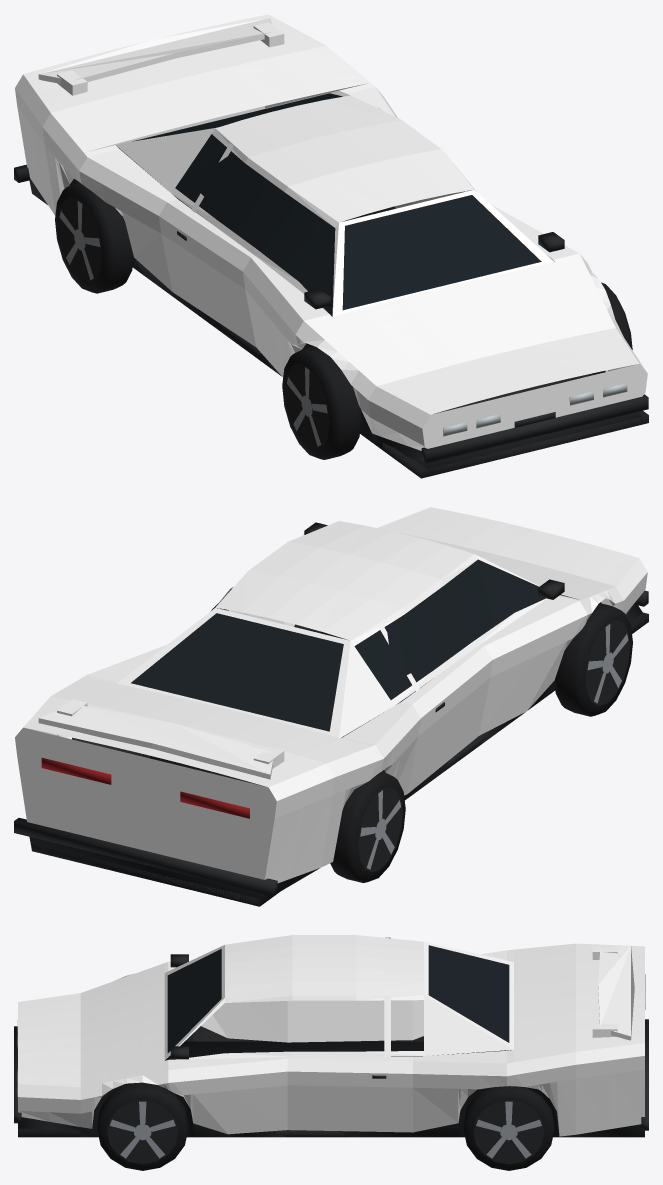
The model's file is taurenza_alabastro.glb.
3 renders of one model, top to bottom at view 1: azimuth 30°, elevation 25°; view 2: azimuth 150°, elevation 25°; view 3: azimuth 270°, elevation 25°, orthographic. The views are drawn at different scales.
Visible parts, largest first — view 1: Body_Paint, Body_Details, Mount_FrontLeft_Wheel_Details, Mount_RearLeft_Wheel_Details; view 2: Body_Paint, Body_Details, Mount_FrontLeft_Wheel_Details, Mount_RearLeft_Wheel_Details; view 3: Body_Paint, Body_Details, Mount_FrontRight_Wheel_Details, Mount_RearRight_Wheel_Details.
Boxes of the visible parts, x1,y1,x2,y2 form: Body_Paint: (15,14,647,450); Body_Details: (14,93,648,478); Mount_FrontLeft_Wheel_Details: (282,346,361,459); Mount_RearLeft_Wheel_Details: (55,182,133,293); Body_Paint: (15,507,647,883); Body_Details: (14,522,648,906); Mount_FrontLeft_Wheel_Details: (554,603,632,716); Mount_RearLeft_Wheel_Details: (330,771,405,882); Body_Paint: (18,935,644,1136); Body_Details: (14,945,648,1137); Mount_FrontRight_Wheel_Details: (97,1082,188,1170); Mount_RearRight_Wheel_Details: (463,1086,554,1170).
Size of the model in its own units: 2.02 by 1.19 by 4.53.
Materials: 2 (1 with a texture image).
